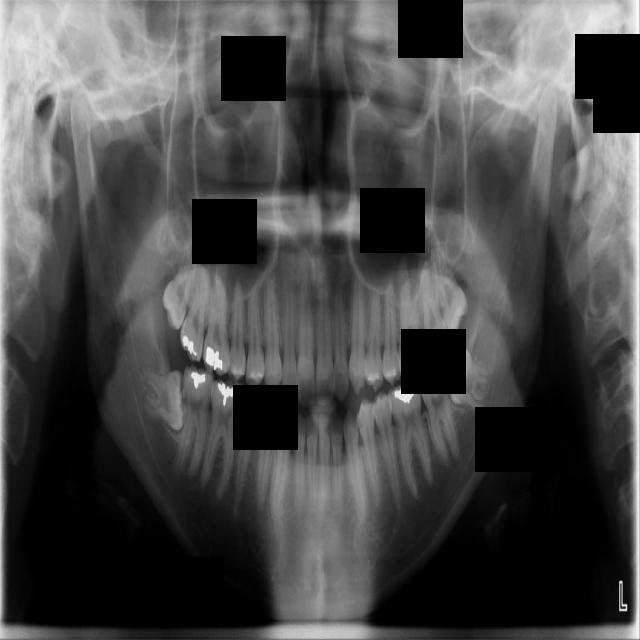3M ESPE Implant: (156, 242, 204, 330)
52: (171, 315, 212, 366), (383, 377, 429, 421), (208, 375, 247, 417), (418, 359, 452, 405), (181, 364, 215, 406), (202, 337, 231, 377), (398, 339, 426, 379), (424, 322, 447, 364), (363, 354, 385, 395), (243, 355, 266, 392), (227, 349, 247, 385), (382, 353, 401, 386)
73: (622, 610, 628, 620)
BioHorizons Implant: (417, 259, 450, 365)
BioLife Implant: (427, 235, 473, 334)
Biomet 3i Implant: (439, 343, 502, 414)
Blue Sky Bio Implant: (416, 359, 463, 470)
Caries: (178, 252, 214, 363)
Implant: (171, 363, 217, 480)
Keystone Dental Implant: (139, 367, 188, 434)
